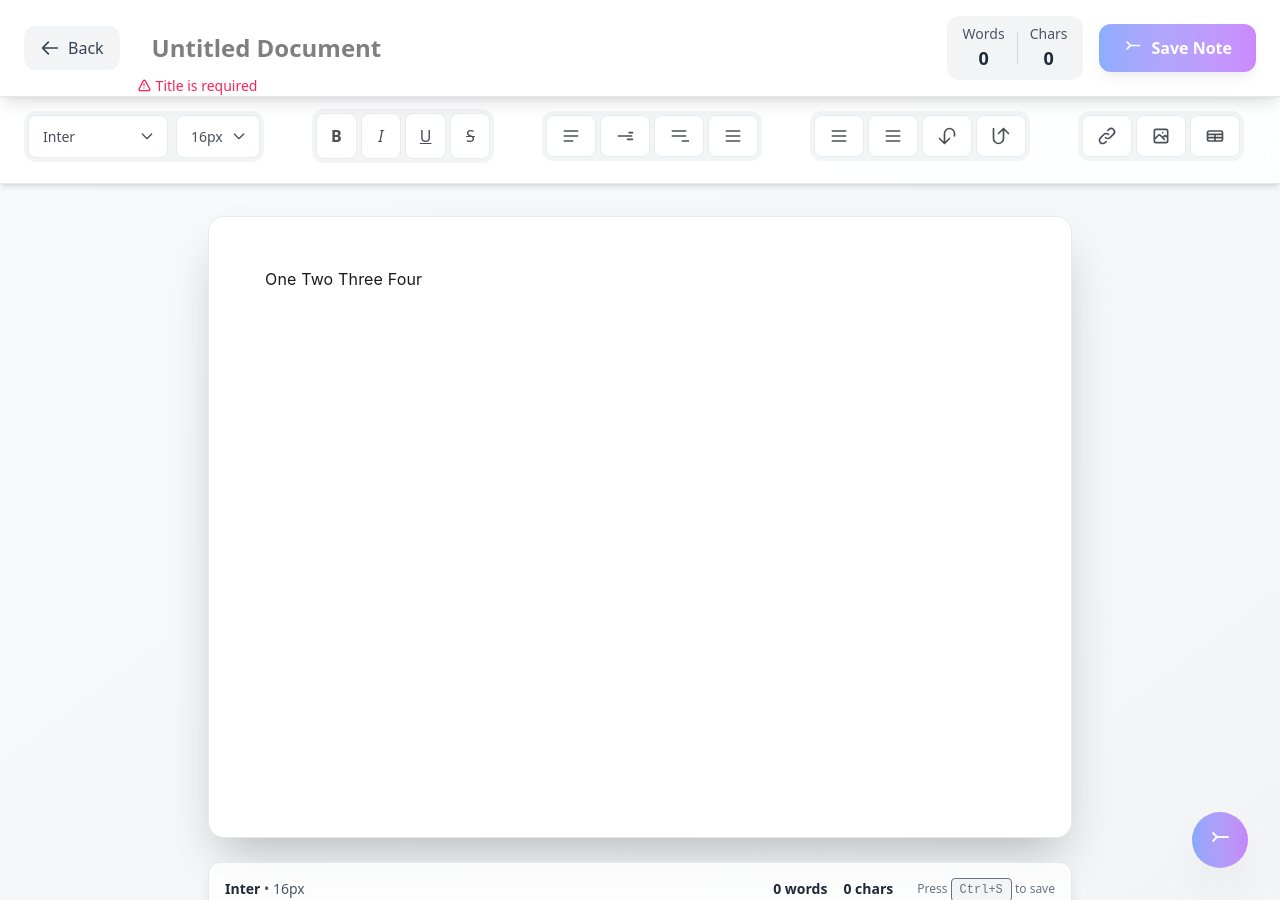
Test case: NoteForm Component › displays word count in status bar
Clear the text box labelled "One Two Three Four" at (640, 527), box [209,217,1071,837]
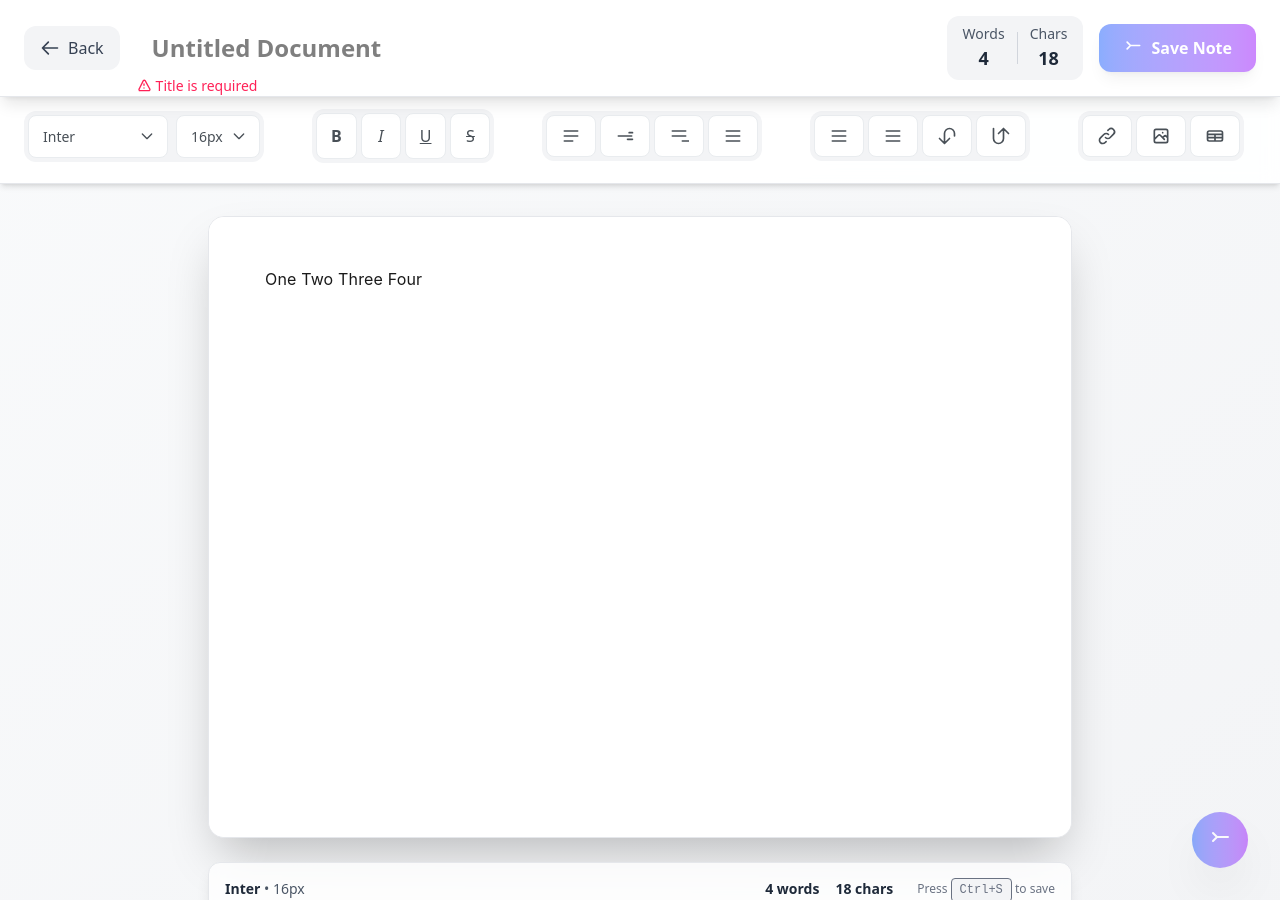
Expected: the text "4 words" is shown, [765,879,819,899]
